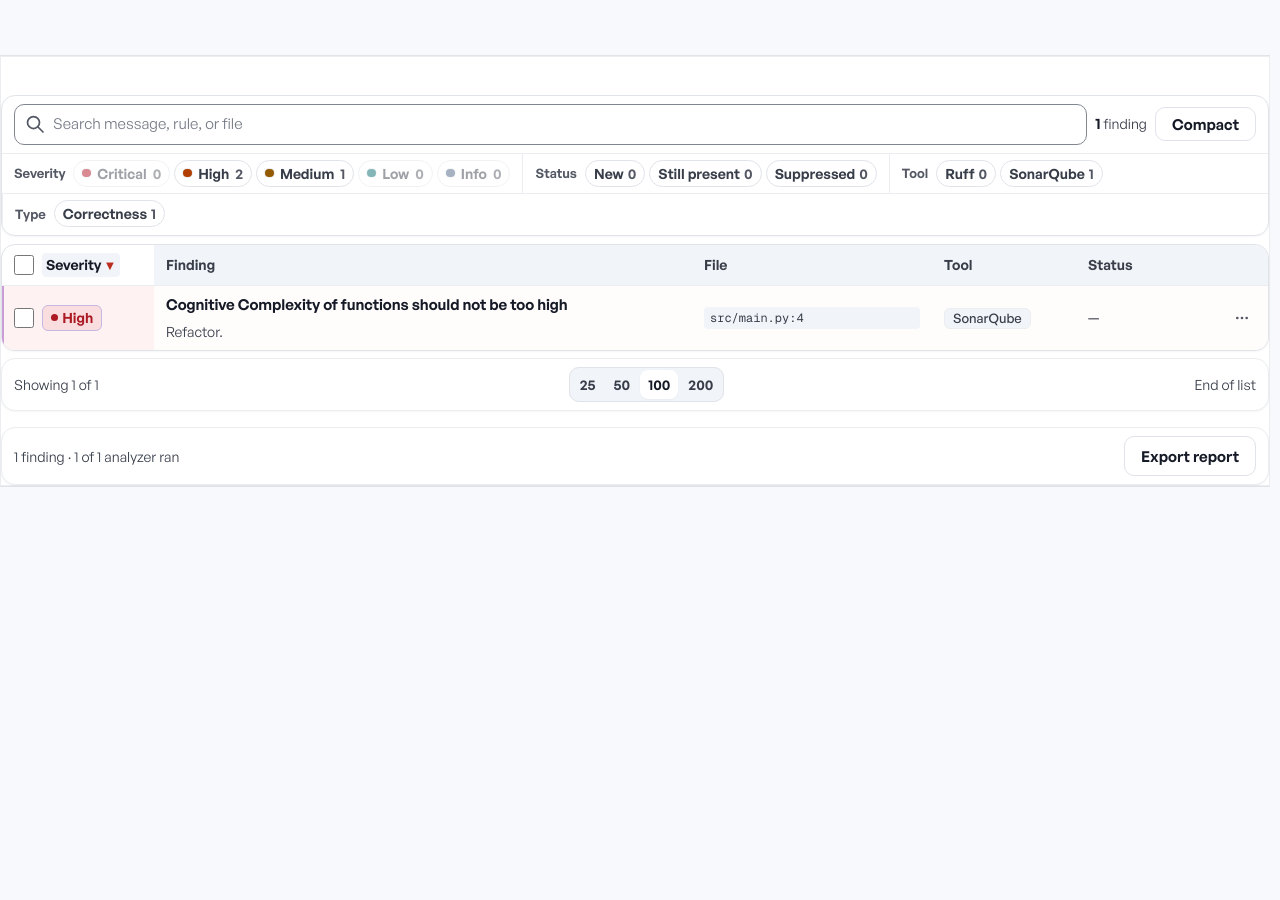
ReportView split pane › synthesizes the rule-docs link and a readable heading when the title just echoes the rule id
Click the row named "high Cognitive Complexity of functions should not be too hig" at (635, 317), box x1=2 y1=286 x2=1268 y2=349
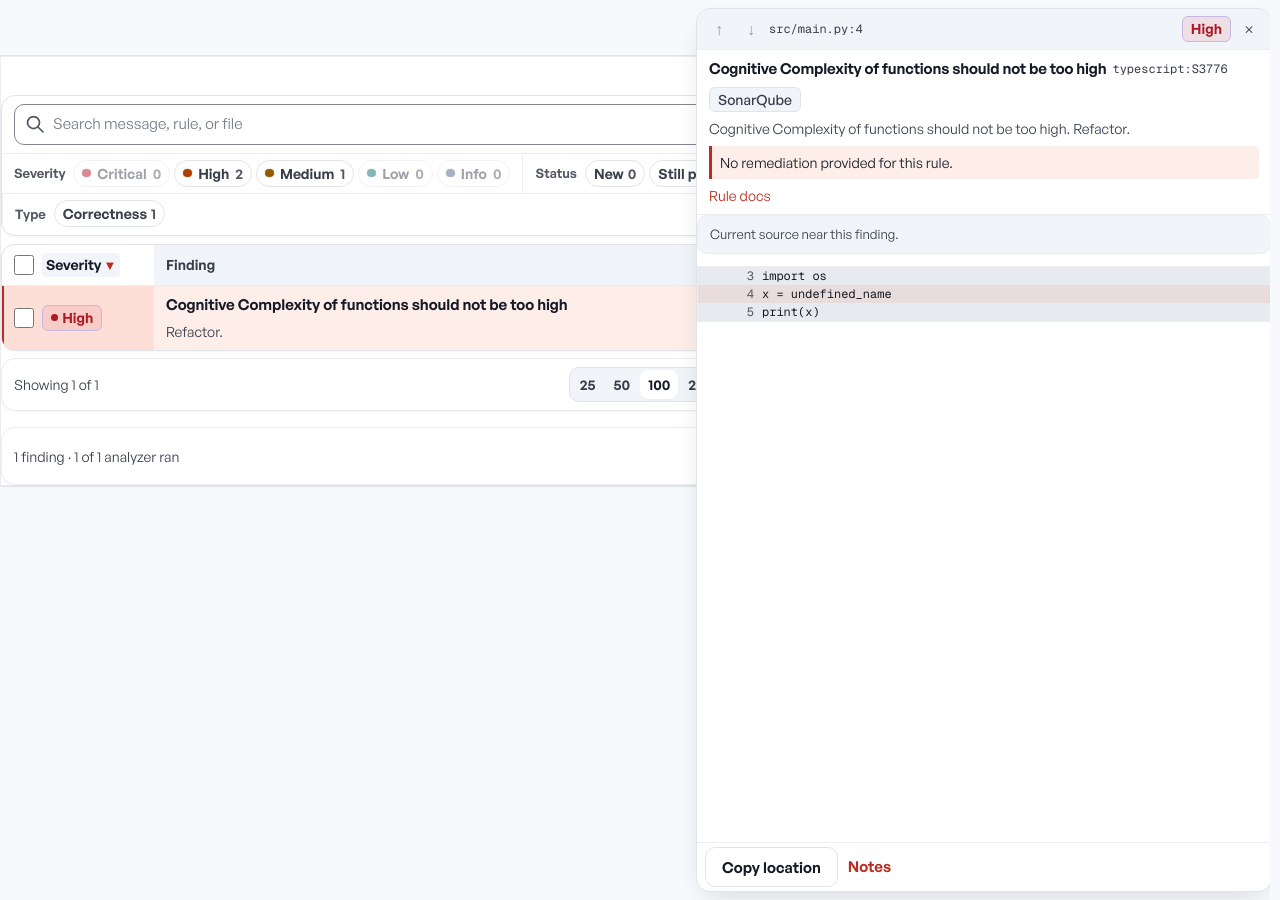
Expected: the link titled "Opens the rule" reads "Rule docs", x1=709 y1=188 x2=771 y2=204
Expected: the text "Cognitive Complexity of functions should not be too high" next to "typescript:S3776" is shown, x1=709 y1=59 x2=1106 y2=78
Expected: the text "typescript:S3776" is shown, x1=1112 y1=60 x2=1228 y2=78
